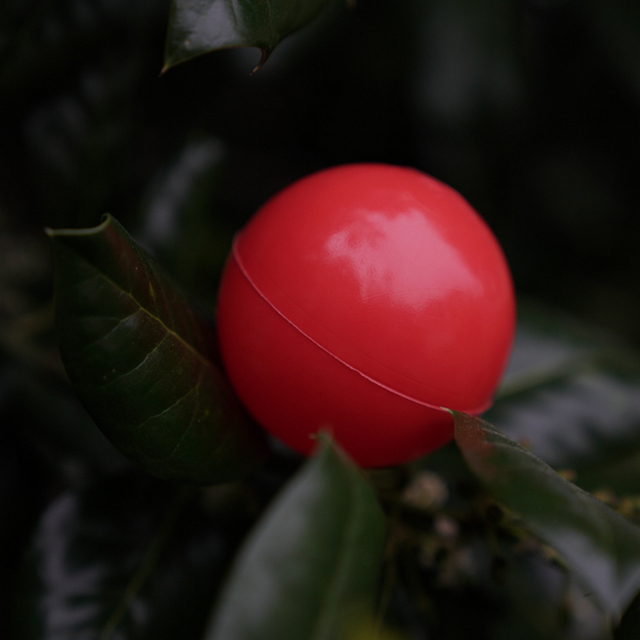Ball: (210, 163, 517, 452)
